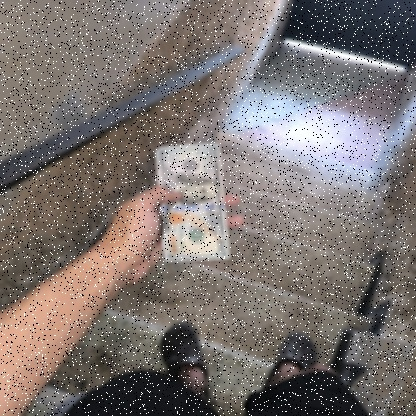one_hundred-front: (154, 142, 236, 259)
